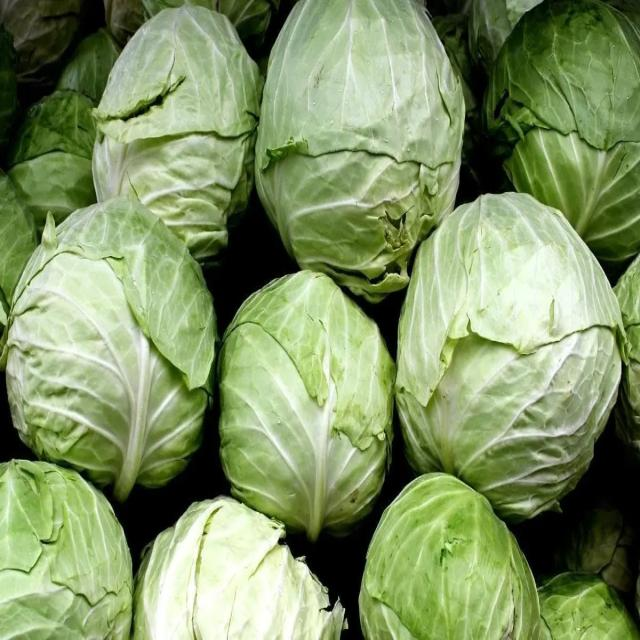cabbage: (396, 198, 622, 538), (252, 0, 469, 306), (10, 197, 218, 502), (216, 265, 393, 539), (98, 4, 265, 263), (483, 5, 640, 269), (130, 493, 352, 640), (359, 470, 546, 640), (0, 455, 137, 640)
